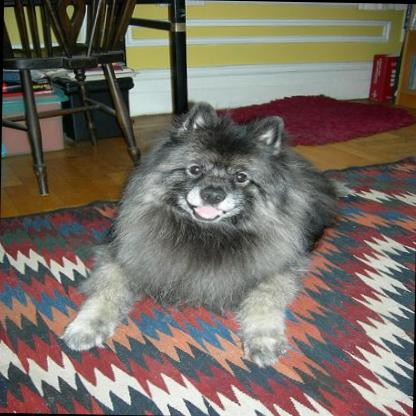keeshond: (57, 98, 340, 366)
